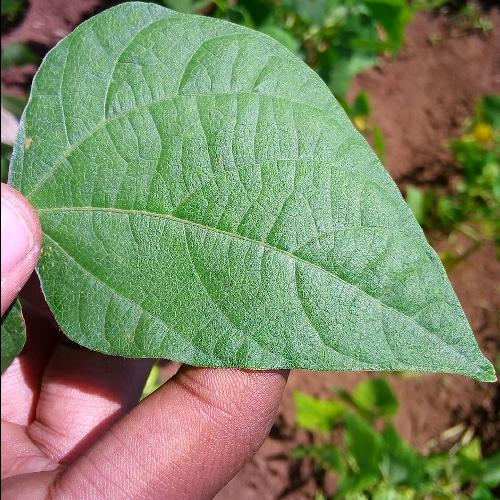sehat: (60, 102, 384, 334)
